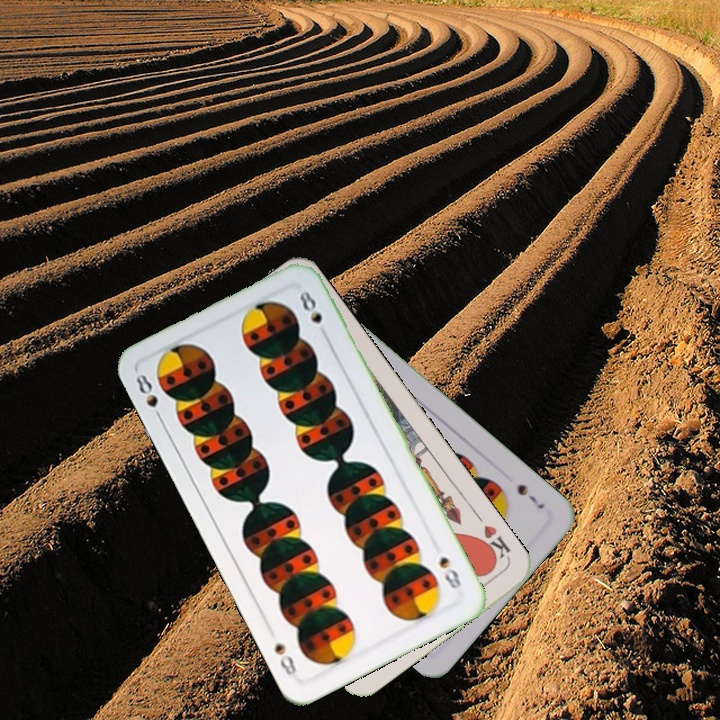HK: (474, 521, 513, 565)
S7: (513, 480, 547, 512)
S8: (131, 370, 166, 425), (435, 552, 464, 592)
